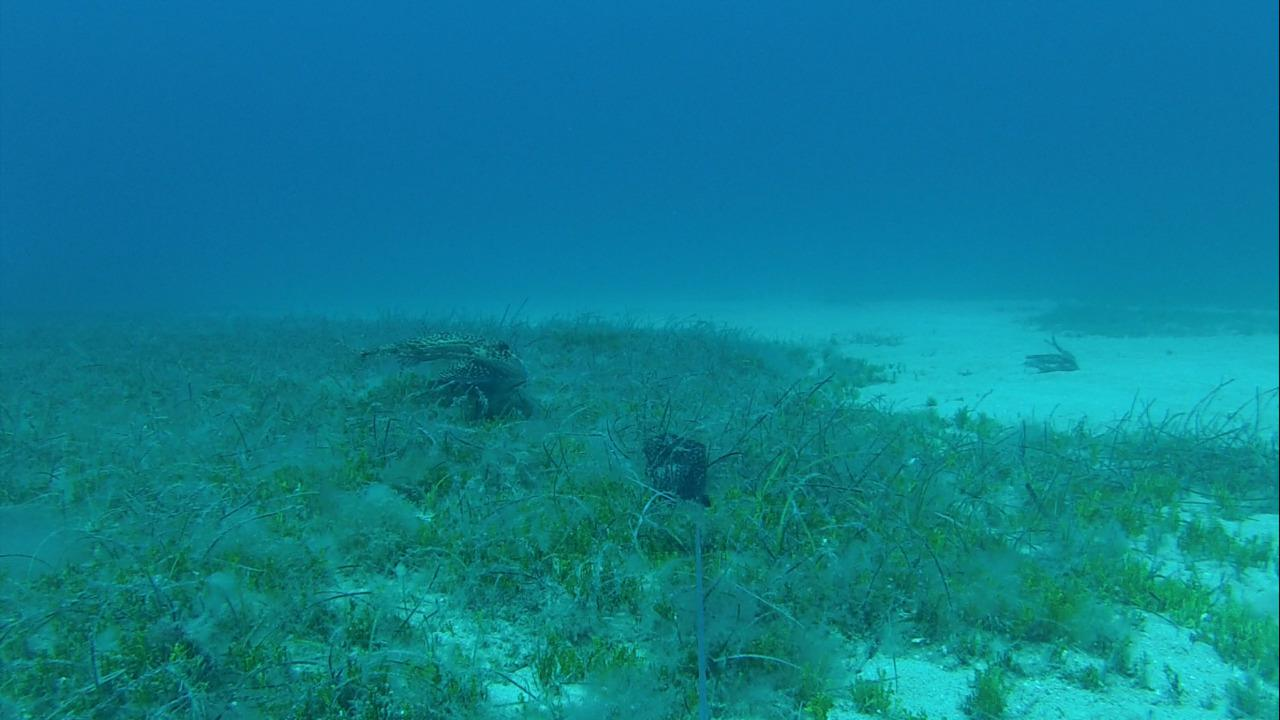dactylopterus: (338, 326, 531, 407)
